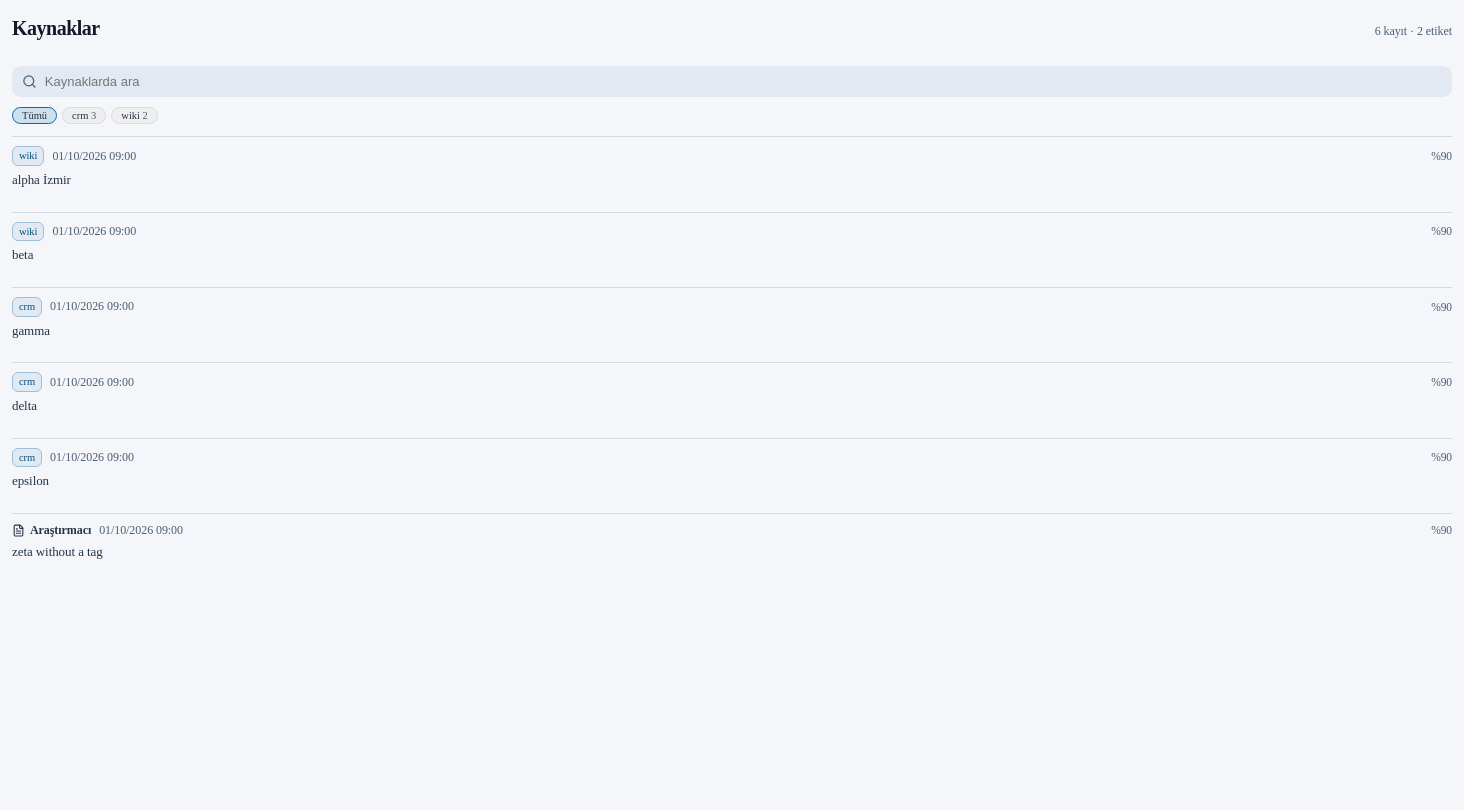
Test: SourceList › finds text the way the language folds it: İzmir by typing izmir
Type "izmir" into the search field. click: (743, 82)
box: [45,66,1442,97]
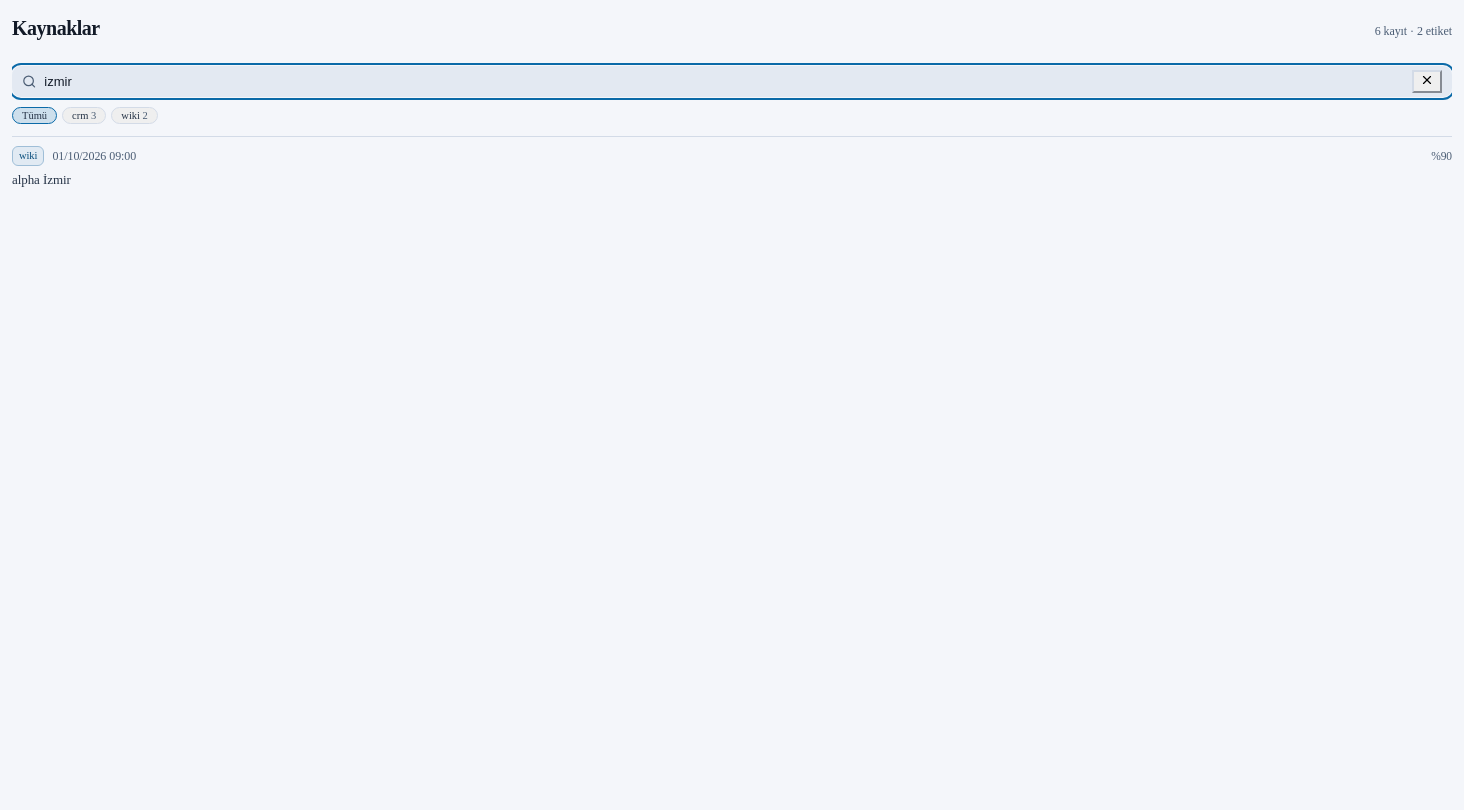
Expected: the text "alpha İzmir" is shown, [12,172,71,187]
Result: the number of list items is 1 at [12,136,1452,212]
